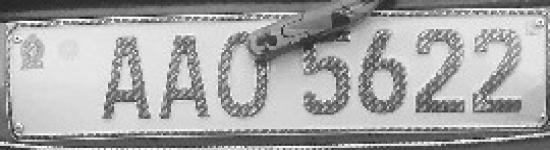2: (471, 25, 527, 120), (414, 24, 468, 118)
5: (299, 24, 356, 120)
6: (356, 21, 412, 120)
A: (92, 31, 157, 124), (156, 32, 217, 125)
O: (217, 27, 274, 125)
